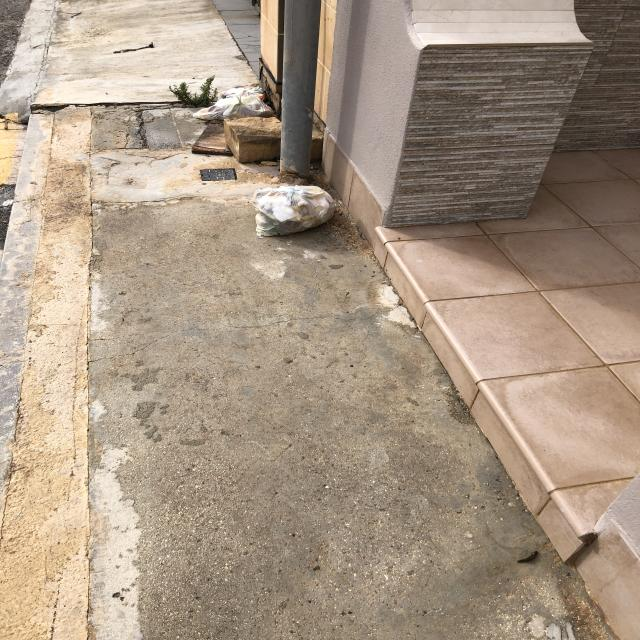Organic Waste -White Bag-: (242, 175, 340, 243), (193, 98, 275, 122), (217, 87, 266, 102)
